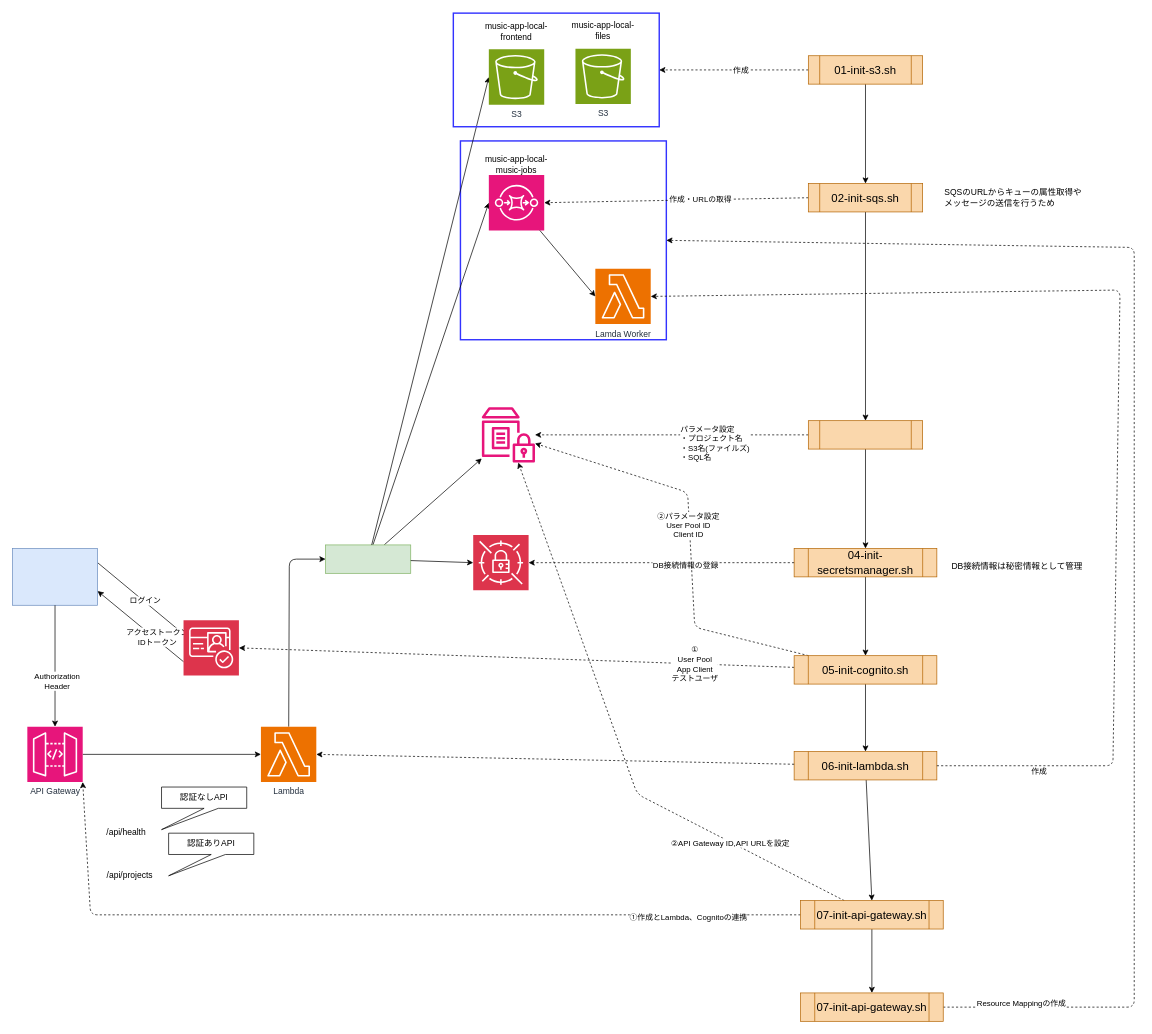
This 1152x1034 diagram has some shape labels left out. The centre of each missing label's shape, as x and y in pixels:
03-init-ssm.sh: point (865, 434)
Cognito: point (211, 647)
React: point (55, 576)
Secrets Manager: point (501, 562)
Spring boot: point (368, 558)
SQS: point (516, 202)
SSM Parameter Store: point (508, 434)
